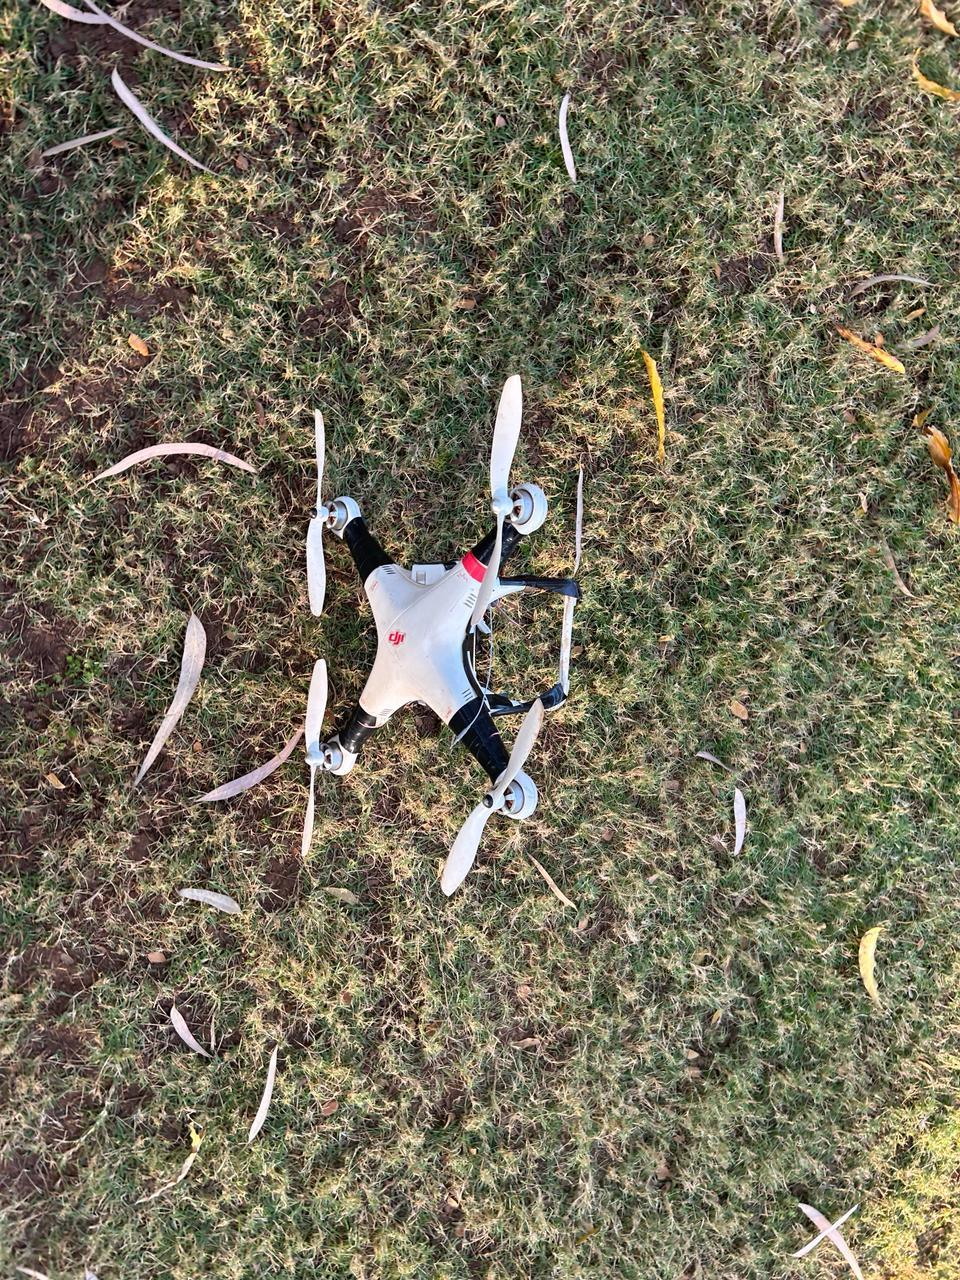drone: (201, 341, 703, 997)
